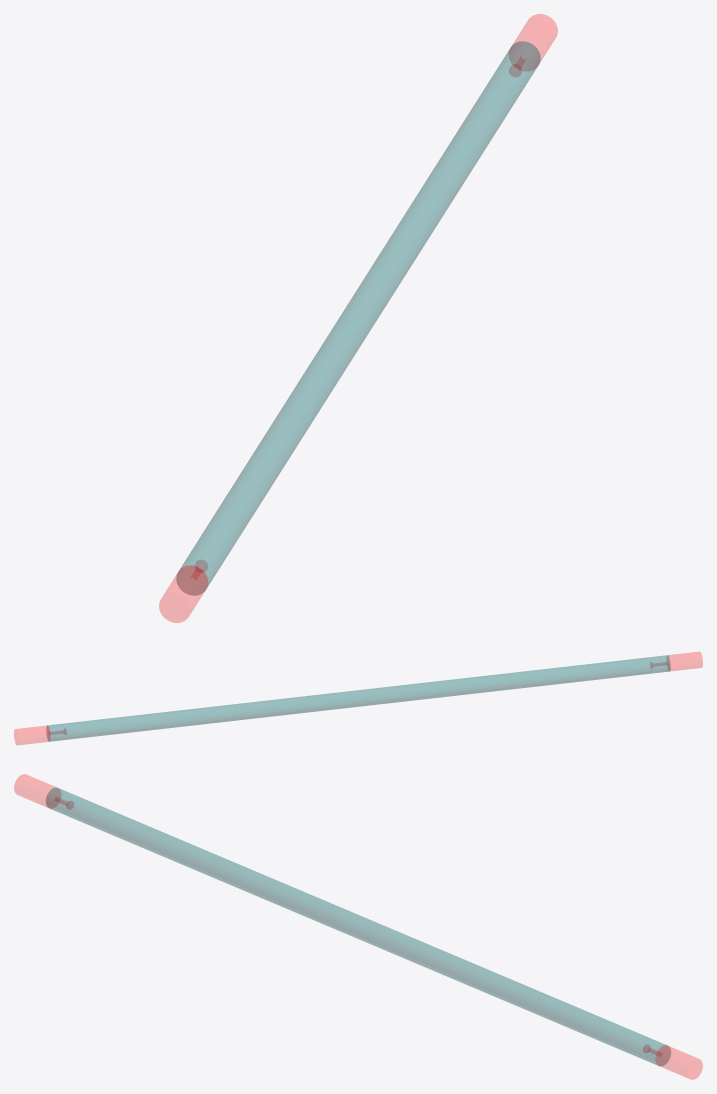
File: RemoveReducerAfter.gltf
The picture shows the model from 3 angles, top to bottom: view 1: azimuth 30°, elevation 25°; view 2: azimuth 150°, elevation 25°; view 3: azimuth 270°, elevation 25°; orthographic projection. The views are drawn at different scales.
Visible parts, largest first — view 1: d1a78cb4-8191-411f-bff2-0865a42e306b_mesh, 81db2158-fc50-41a5-b5a3-245d657cda08_mesh, 199a3a29-0778-47d1-9bc7-223a0958b867_mesh; view 2: d1a78cb4-8191-411f-bff2-0865a42e306b_mesh, 199a3a29-0778-47d1-9bc7-223a0958b867_mesh, 81db2158-fc50-41a5-b5a3-245d657cda08_mesh; view 3: d1a78cb4-8191-411f-bff2-0865a42e306b_mesh, 199a3a29-0778-47d1-9bc7-223a0958b867_mesh, 81db2158-fc50-41a5-b5a3-245d657cda08_mesh.
Part boxes in pixels (bbox=[...]): d1a78cb4-8191-411f-bff2-0865a42e306b_mesh: bbox=[176, 41, 540, 595]; 81db2158-fc50-41a5-b5a3-245d657cda08_mesh: bbox=[159, 560, 207, 622]; 199a3a29-0778-47d1-9bc7-223a0958b867_mesh: bbox=[509, 14, 557, 76]; d1a78cb4-8191-411f-bff2-0865a42e306b_mesh: bbox=[46, 655, 670, 741]; 199a3a29-0778-47d1-9bc7-223a0958b867_mesh: bbox=[14, 725, 66, 744]; 81db2158-fc50-41a5-b5a3-245d657cda08_mesh: bbox=[650, 652, 702, 670]; d1a78cb4-8191-411f-bff2-0865a42e306b_mesh: bbox=[46, 787, 670, 1065]; 199a3a29-0778-47d1-9bc7-223a0958b867_mesh: bbox=[643, 1045, 702, 1079]; 81db2158-fc50-41a5-b5a3-245d657cda08_mesh: bbox=[14, 774, 73, 808].
Bounding box in the file's own units: 3.07 × 0.1 × 3.07.
